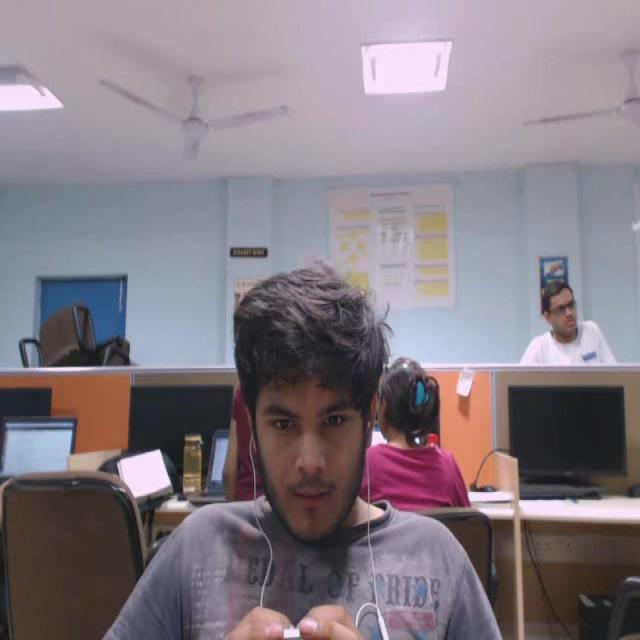Engaged: (207, 246, 410, 554)
